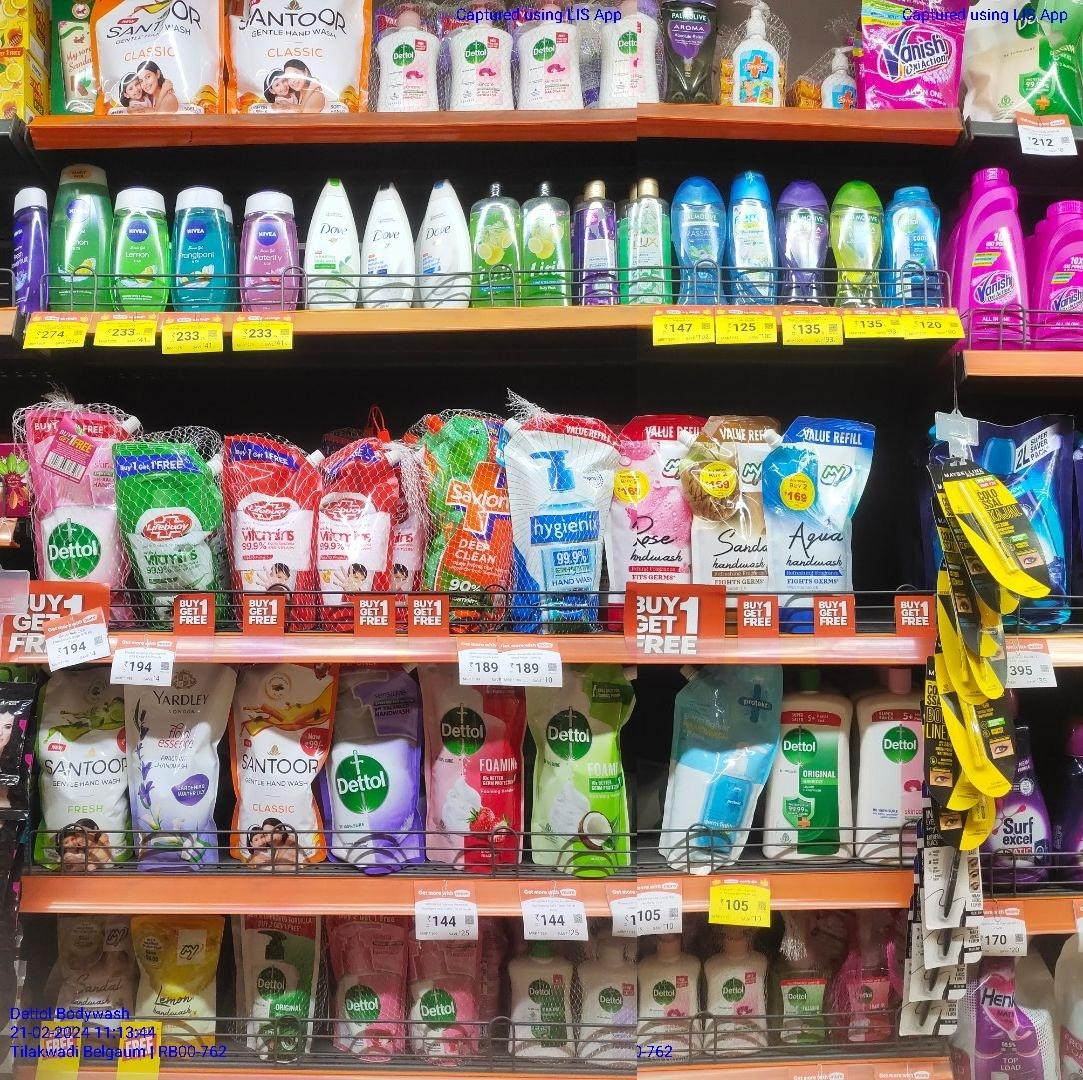Dettol_Bodywash_Cool: (885, 182, 944, 309)
Dove_Gentle_Exfoliating_Body_Wash_250ML: (418, 177, 471, 307)
Dove_Refreshing_Body_Wash_250ML: (304, 176, 360, 309)
Liril_Lime_and_Tea_Tree_Oil_Body_Wash_250ML: (470, 178, 522, 306), (523, 177, 572, 305)
Lux_Black_Orchid_Scent_and_Juniper_Oil_Body_Wash_245ML: (572, 178, 620, 306)
Lux_Body_Wash_Skin_Detox_Freesia_Scent_and_Alove_Vera_245ML: (625, 177, 672, 305)
Nivea_Shower_Gel_Frangipani_and_Oil_250ML: (170, 185, 229, 311)
Nivea_Shower_Gel_Lemon_and_Oil_250ML: (109, 185, 170, 311)
Nivea_Shower_Gel_Waterlily_and_Oil_250ML: (239, 188, 299, 311)
Palmolive_Aroma_Moments_Feel_The_Massage_Shower_Gel_250ML: (669, 175, 728, 306)
Palmolive_Aroma_Morning_Tonic_Shower_Gel_250ML: (831, 175, 885, 306)
Palmolive_Aroma_Relax_250ML: (776, 177, 830, 304)
